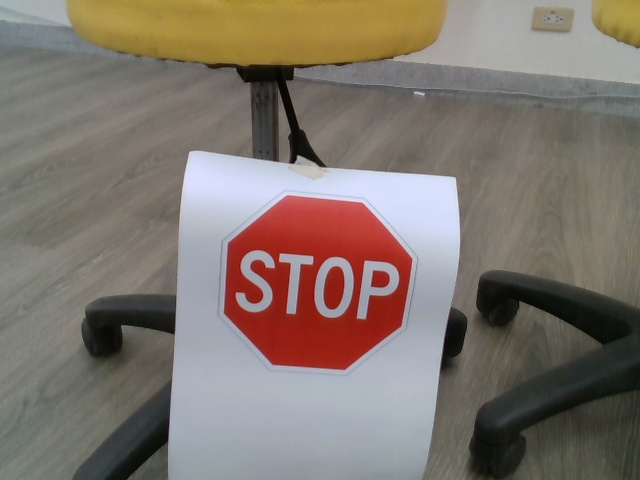stop: (216, 189, 422, 377)
